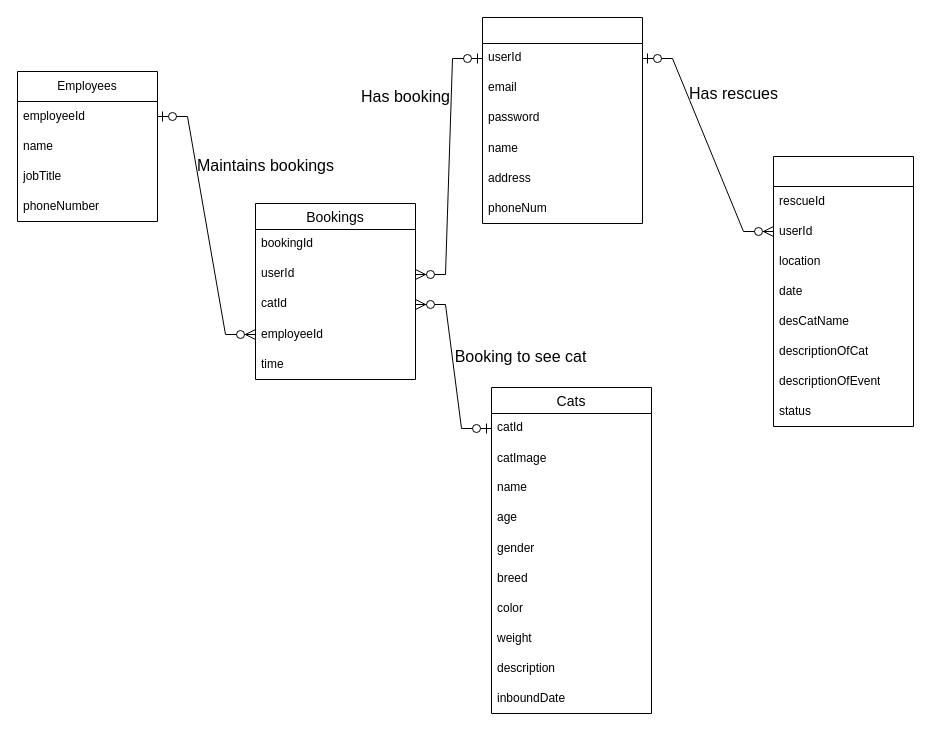
Image size: 931x731. Some labels were removed from this diagram. Each missing label, with the box of its shape:
Rescues: (772, 156, 914, 426)
Users: (482, 16, 642, 224)
